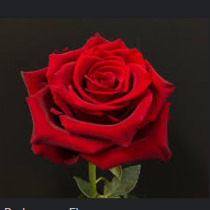RedRose: (24, 36, 173, 166)
